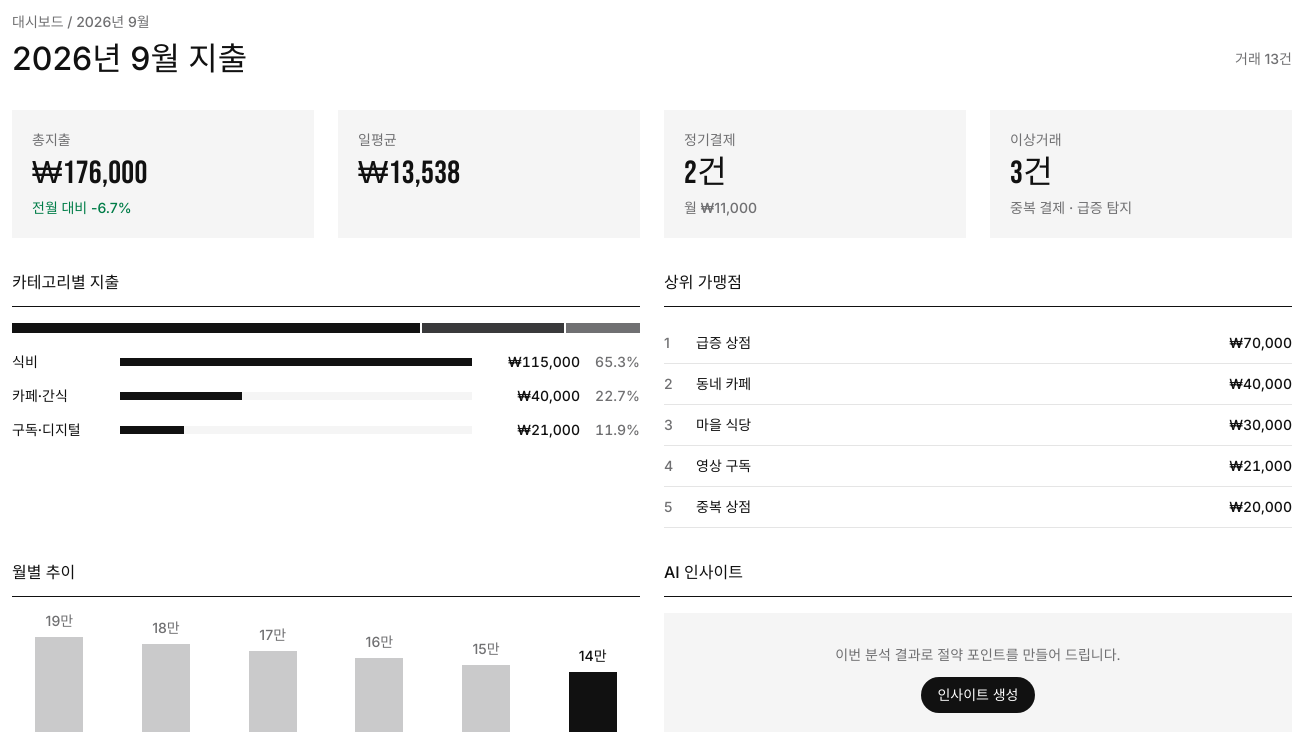
Test: 인사이트 상태 전이 › network 실패의 원문을 노출하지 않는다
Click the button "인사이트 생성".
click(978, 695)  # box [922,677,1034,713]
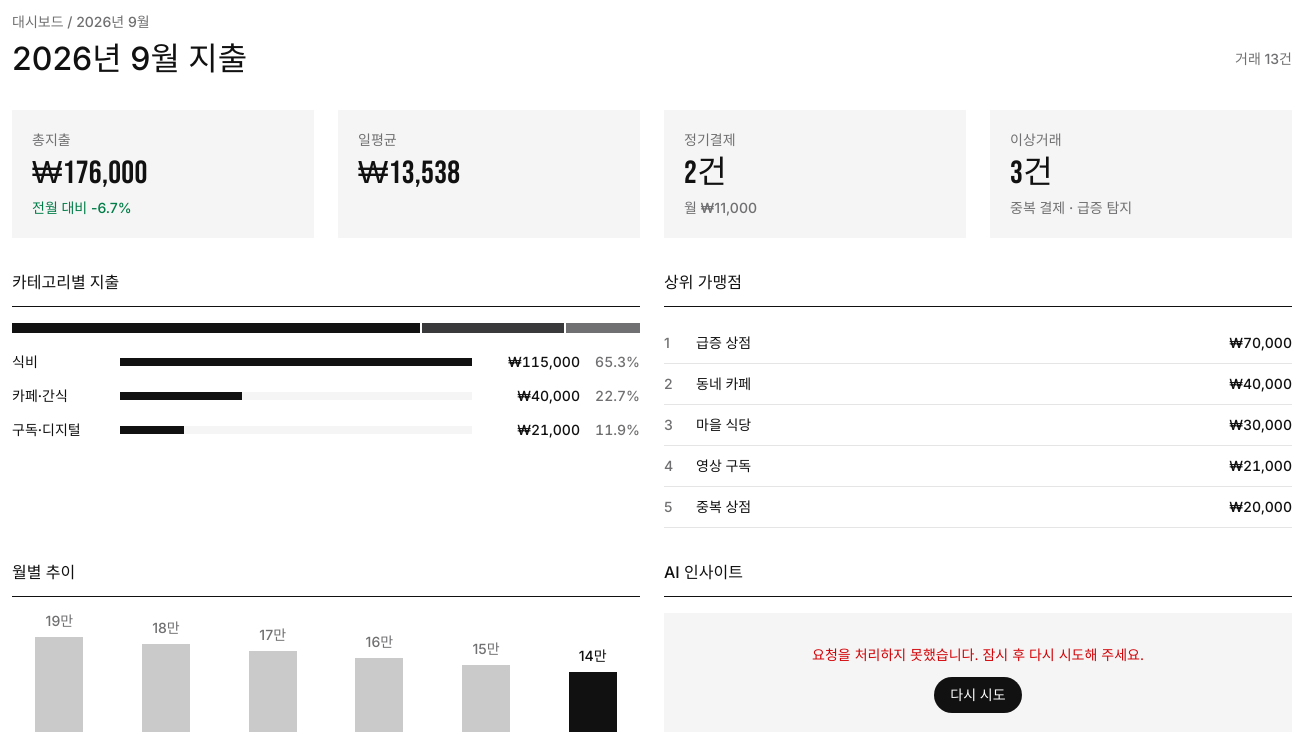
Expected: the message reads "요청을 처리하지 못했습니다. 잠시 후 다시 시도해 주세요.", [812,646,1144,663]
